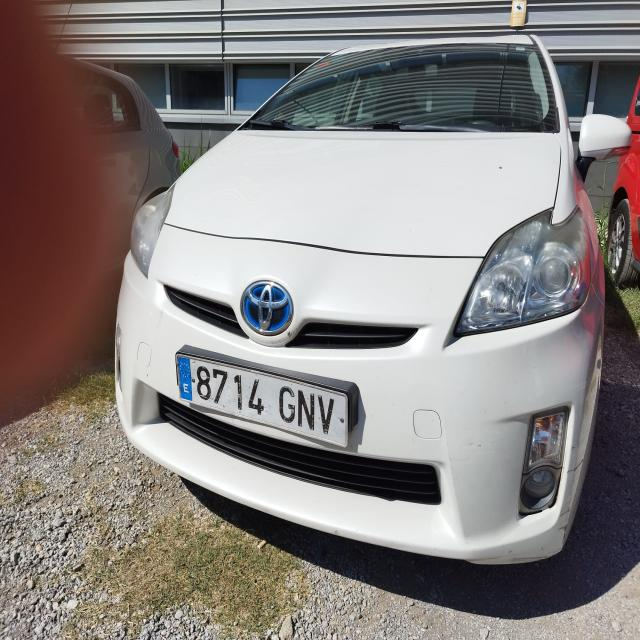plates: (176, 345, 359, 447)
